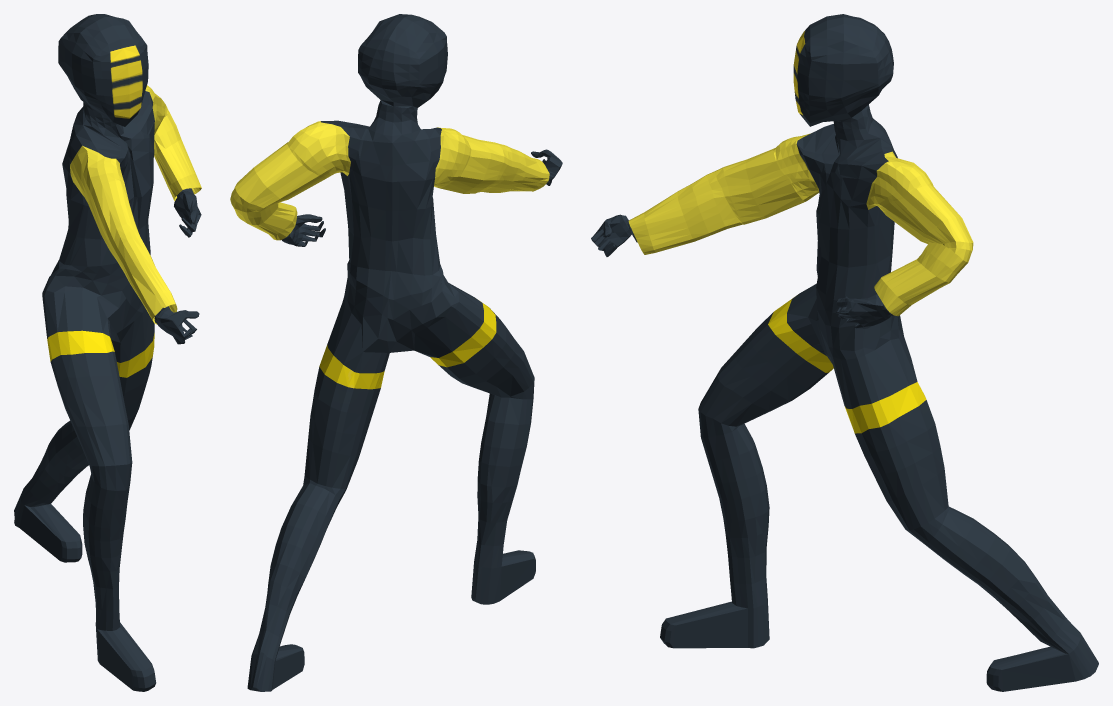
Rendered from Sentry_Attack_000038.obj.
3 views of the same model, side by side, from view 1: azimuth 30°, elevation 25°; view 2: azimuth 150°, elevation 25°; view 3: azimuth 270°, elevation 25° (orthographic). The views are drawn at different scales.
Visible parts, largest first — view 1: Cube; view 2: Cube; view 3: Cube.
Boxes of the visible parts, x1,y1,x2,y2 form: Cube: (14, 14, 201, 691); Cube: (230, 14, 562, 691); Cube: (591, 14, 1098, 691).
Bounding box in the file's own units: 1.22 × 3.63 × 2.57.
